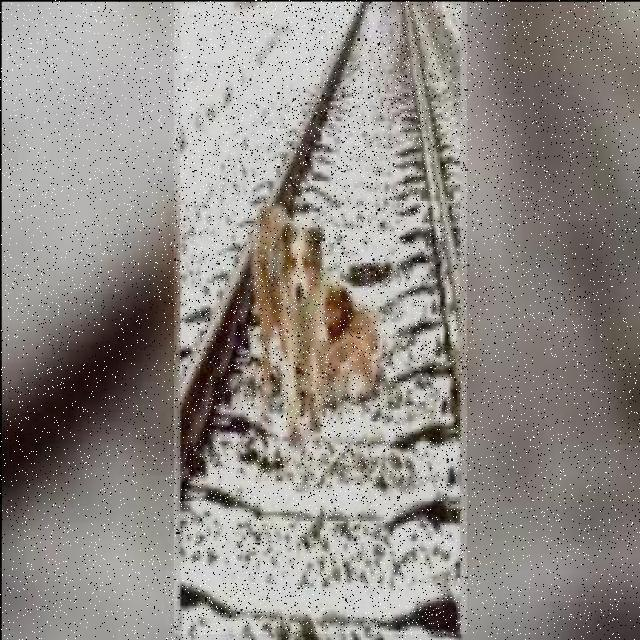rail: (175, 2, 468, 635)
